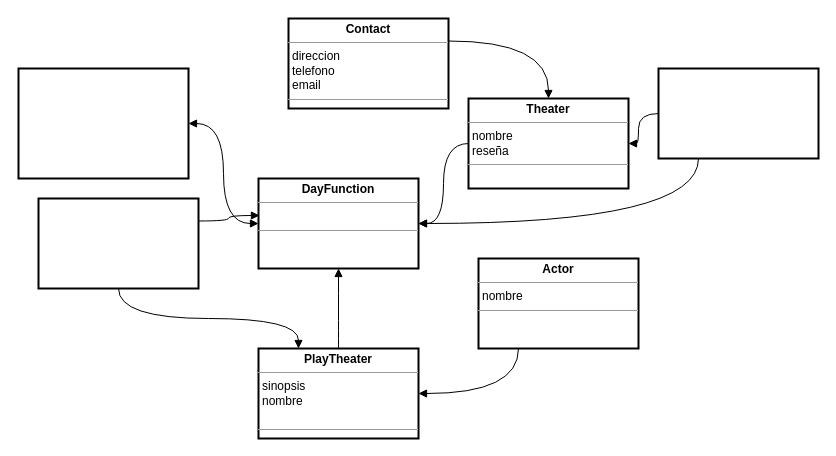
The diagram is 836 pixels wide and 456 high, and some of its shapes have lost their labels. Here are the shapes that lost their labels. From the top down, the box of each, then its label:
(17, 67, 189, 179): DateTimeFunction dias de la semana desde hasta horas
(657, 67, 819, 159): Room Theater nombre capacidad
(37, 197, 199, 289): Ticket precio nombre
